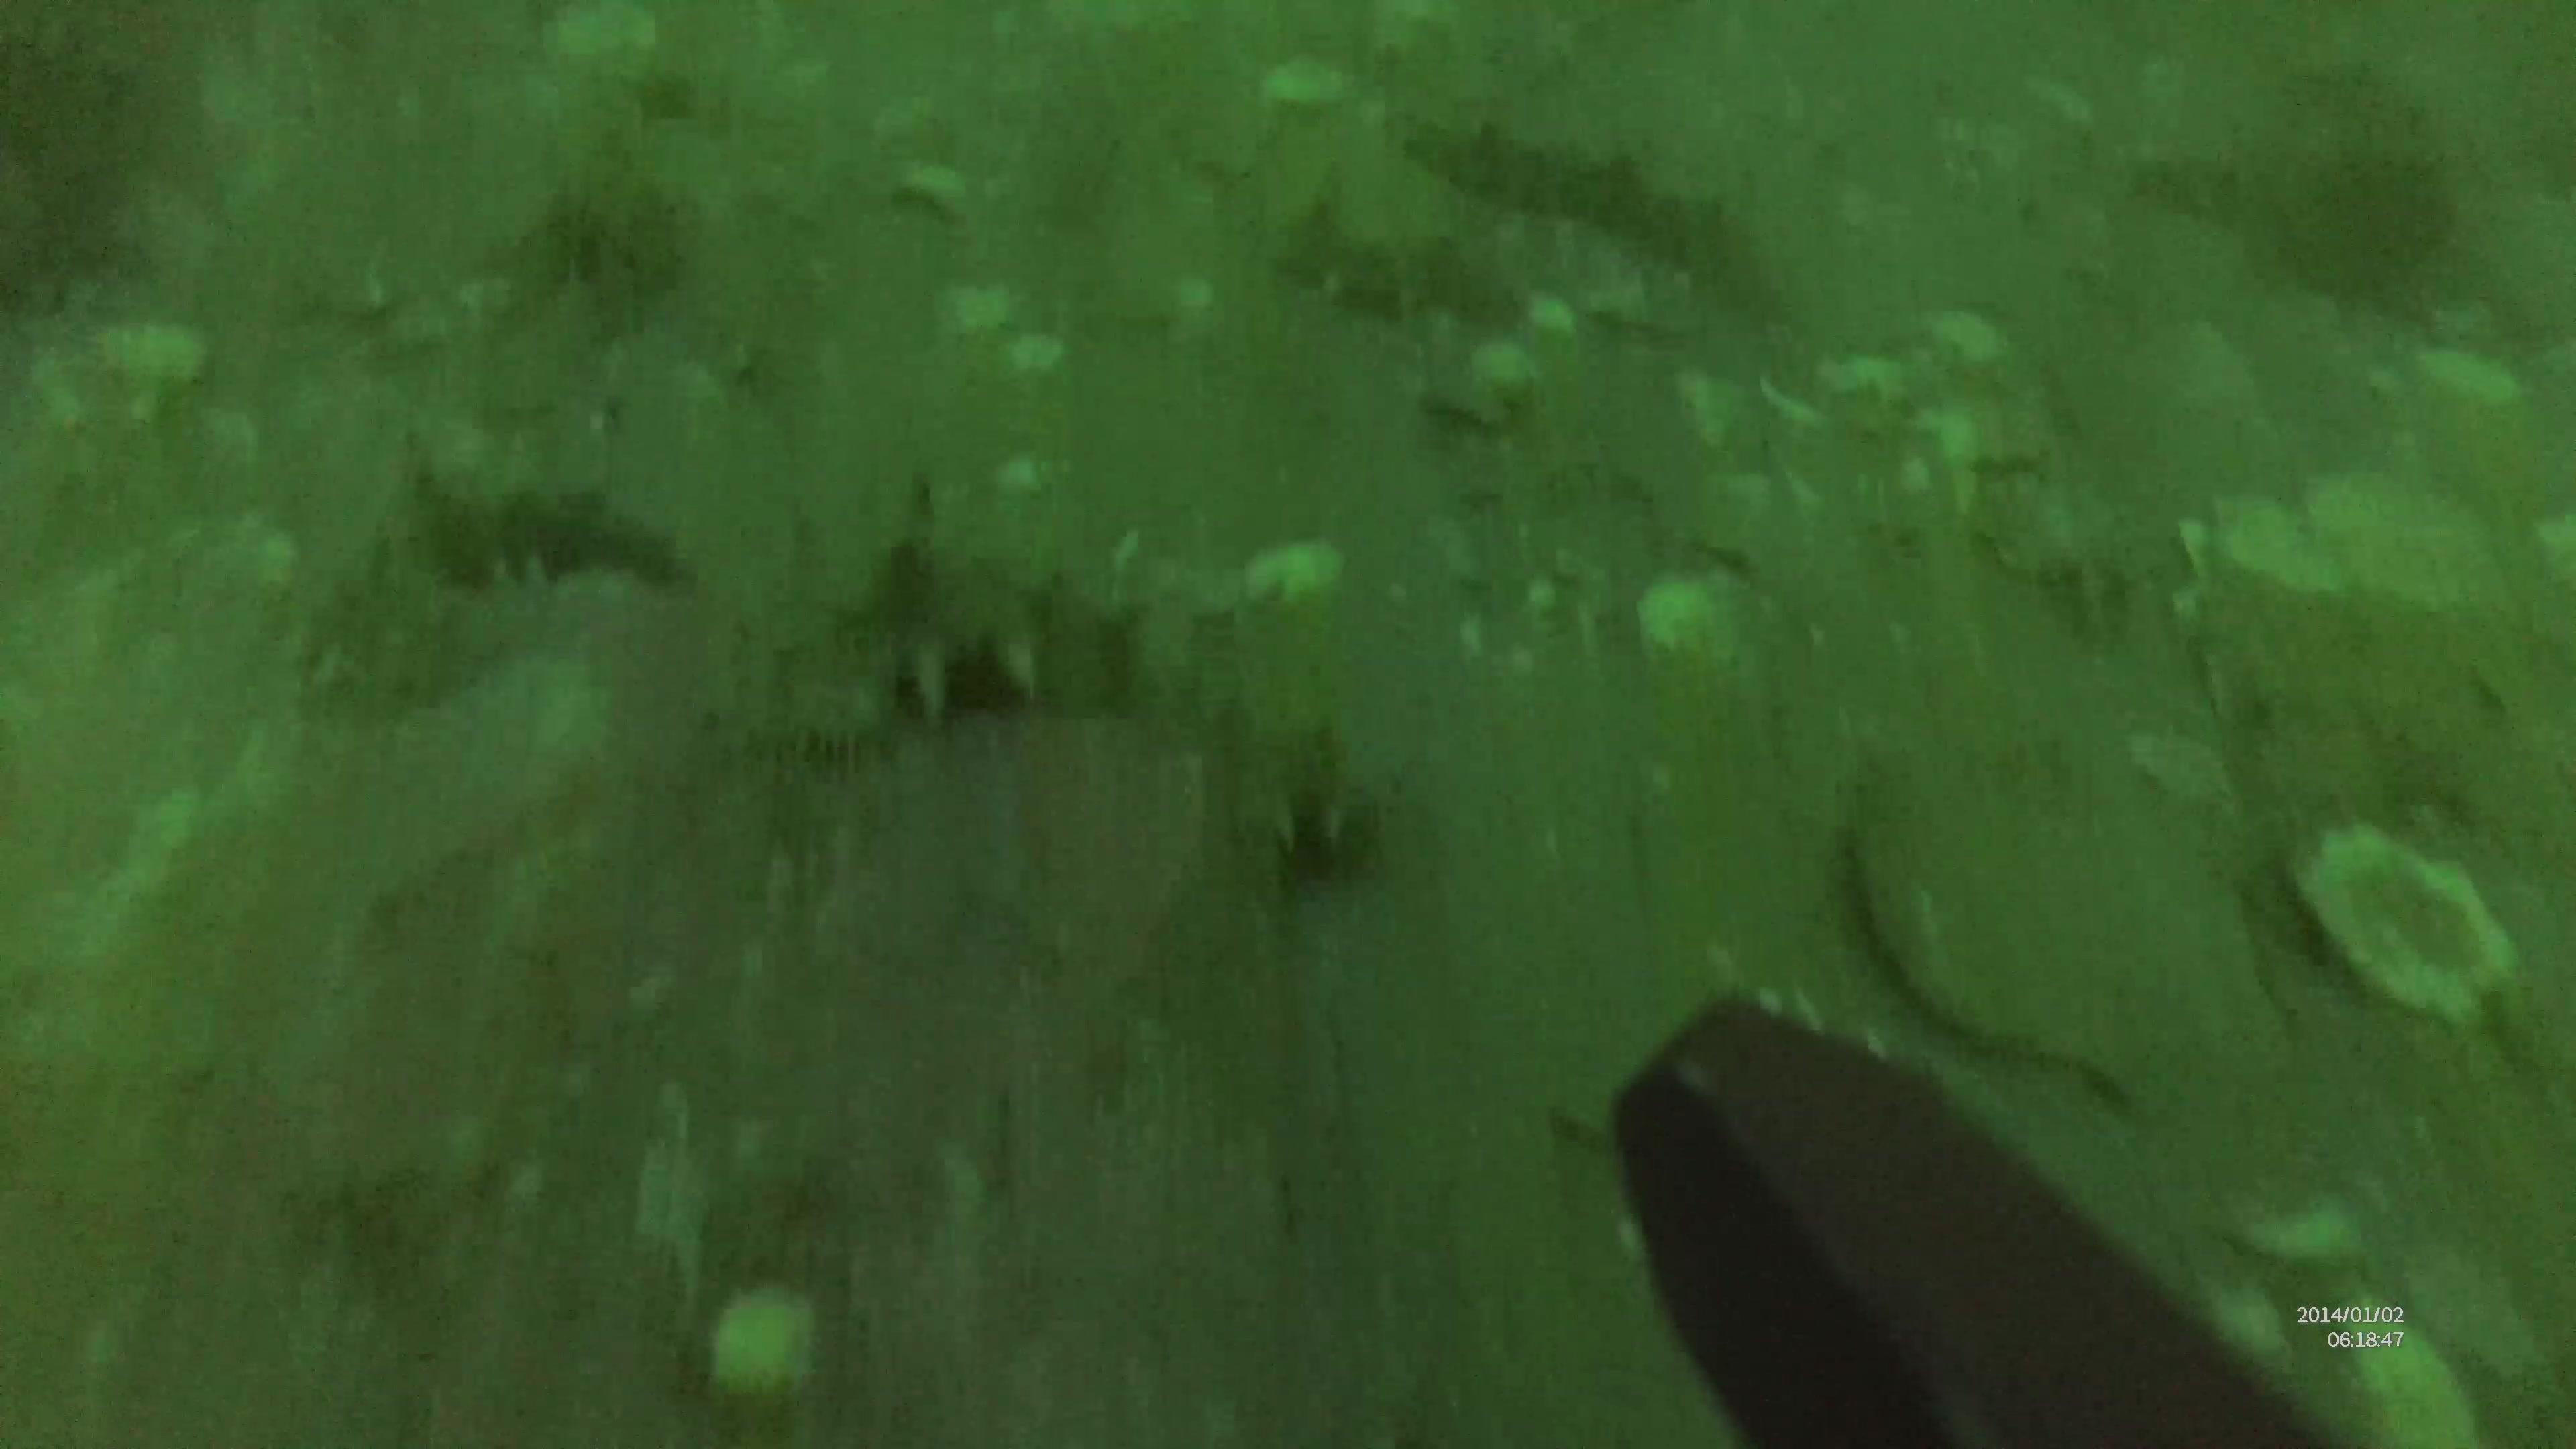holothurian: (801, 488, 1169, 740), (1244, 198, 1527, 336), (366, 467, 676, 589)
scallop: (702, 1277, 821, 1387), (1249, 533, 1345, 617), (932, 271, 1001, 329), (1007, 327, 1063, 372)
